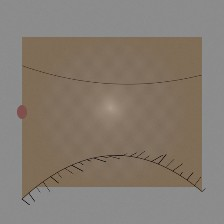pinguecula_lesion: (18, 83, 68, 123)
